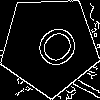O: (24, 20, 83, 79)
